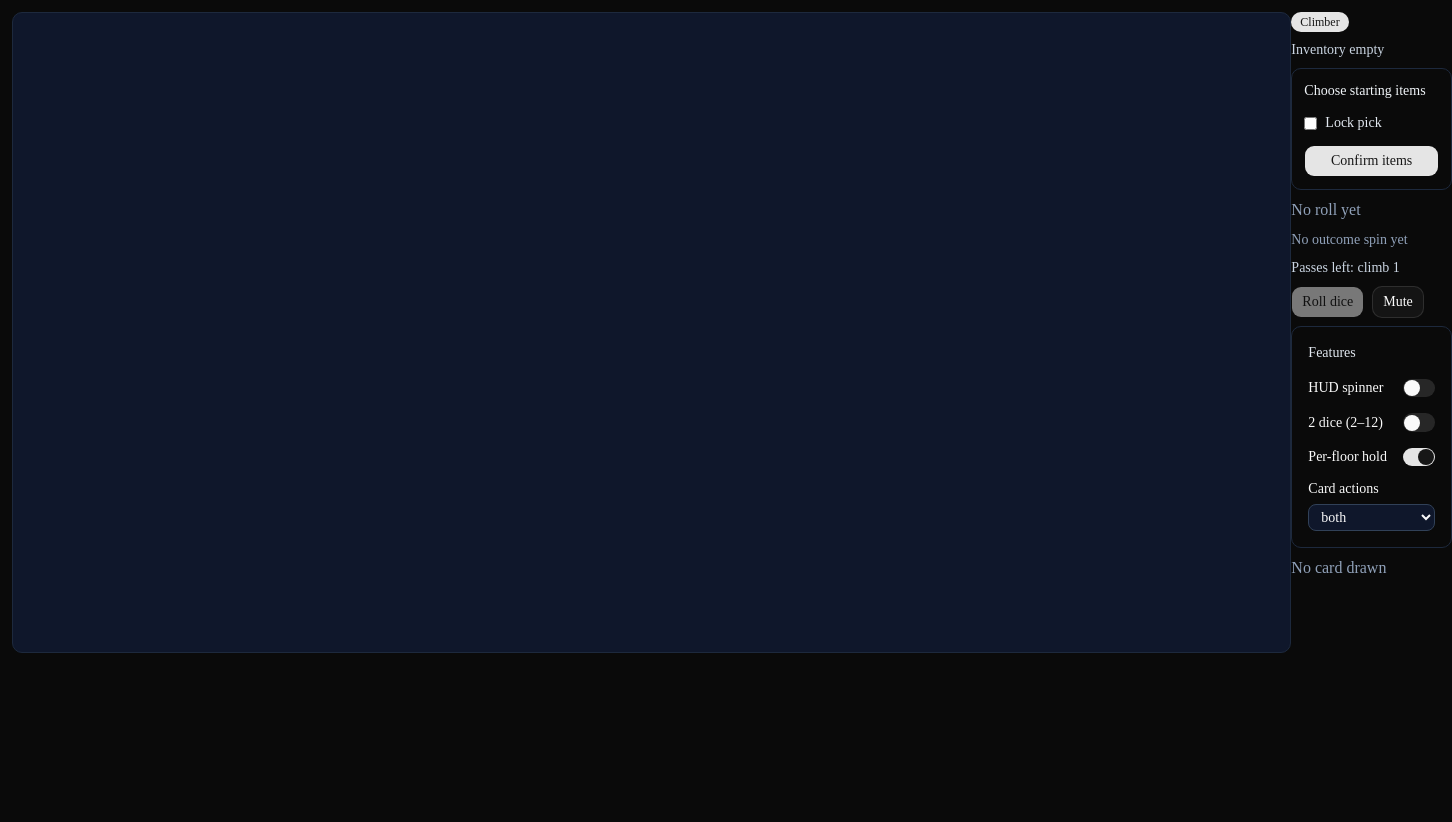
Scenario: GameHud › always shows inventory and last-spin, and choose setup locks Roll until confirmed
The image size is (1452, 822).
Expected: the element with test id "inventory-bar" reads "Inventory empty", [1291,42,1384,57]
Expected: the text "No outcome spin yet" is shown, [1291,232,1408,247]
Click the checkbox named "Take Lock pick": [1311, 123] box [1304,116,1317,130]
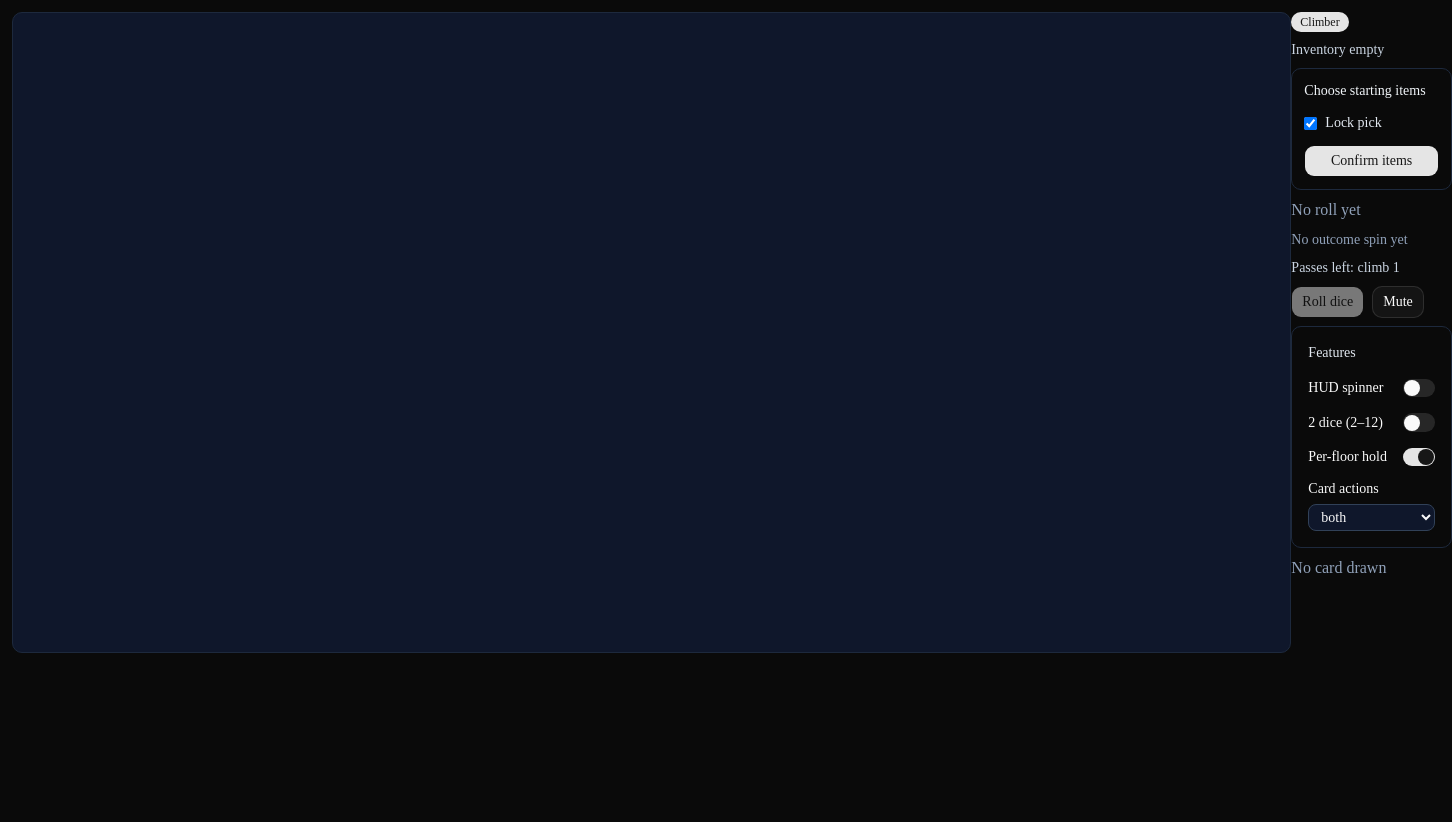
Click the button "Confirm items": [1372, 161] box [1304,145,1439,177]
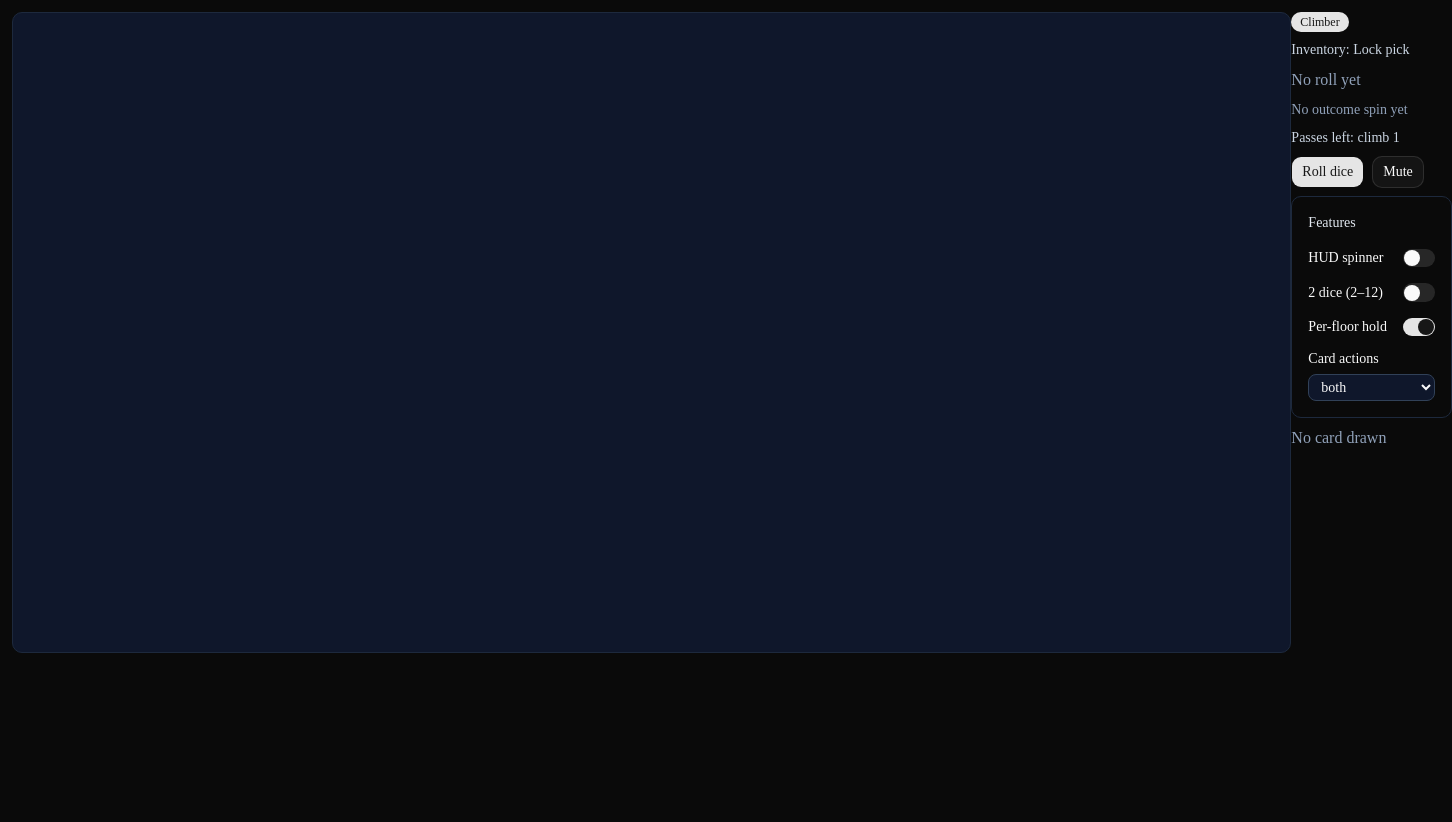
Expected: the element with test id "item-setup" is gone
Expected: the element with test id "inventory-bar" reads "Inventory: Lock pick", [1291,42,1410,57]
Expected: the button "Roll dice" is enabled, [1291,156,1364,188]
